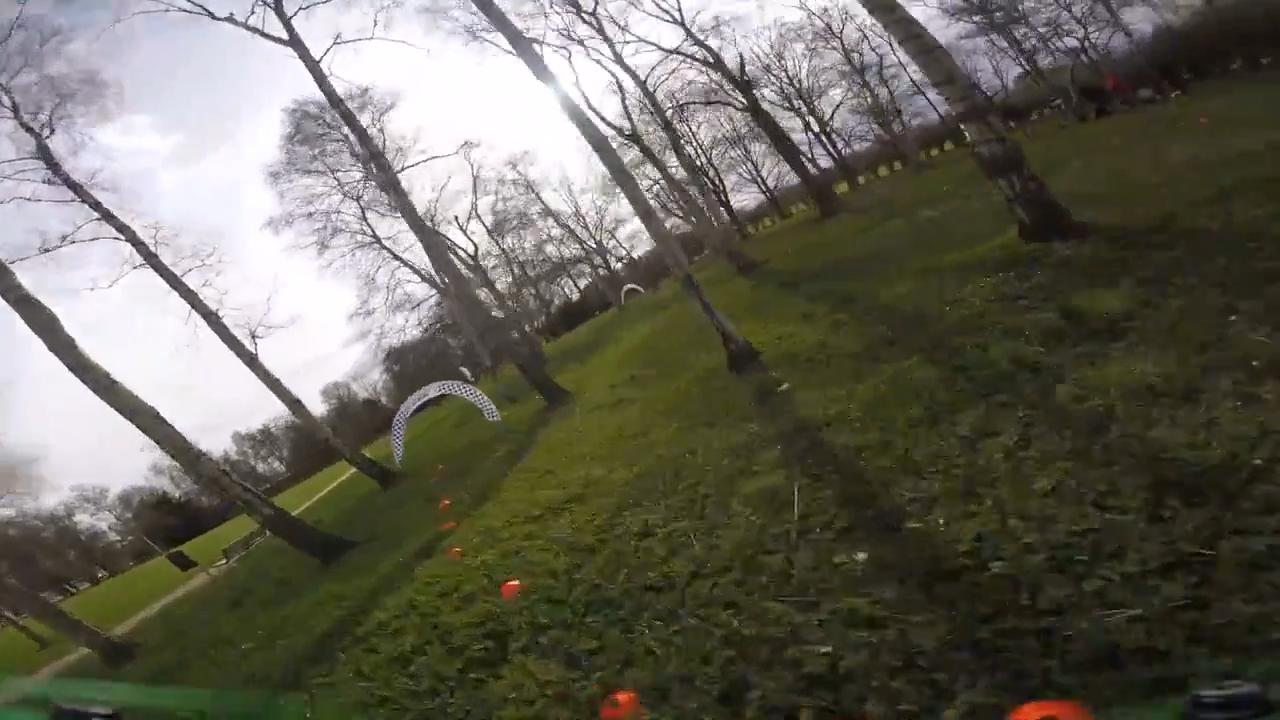gate: (386, 380, 503, 461)
